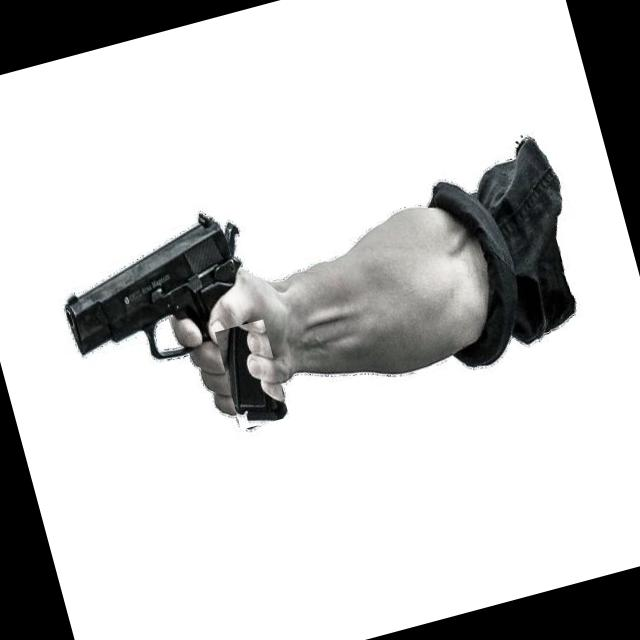Gun: (65, 213, 240, 358), (227, 328, 286, 420)
